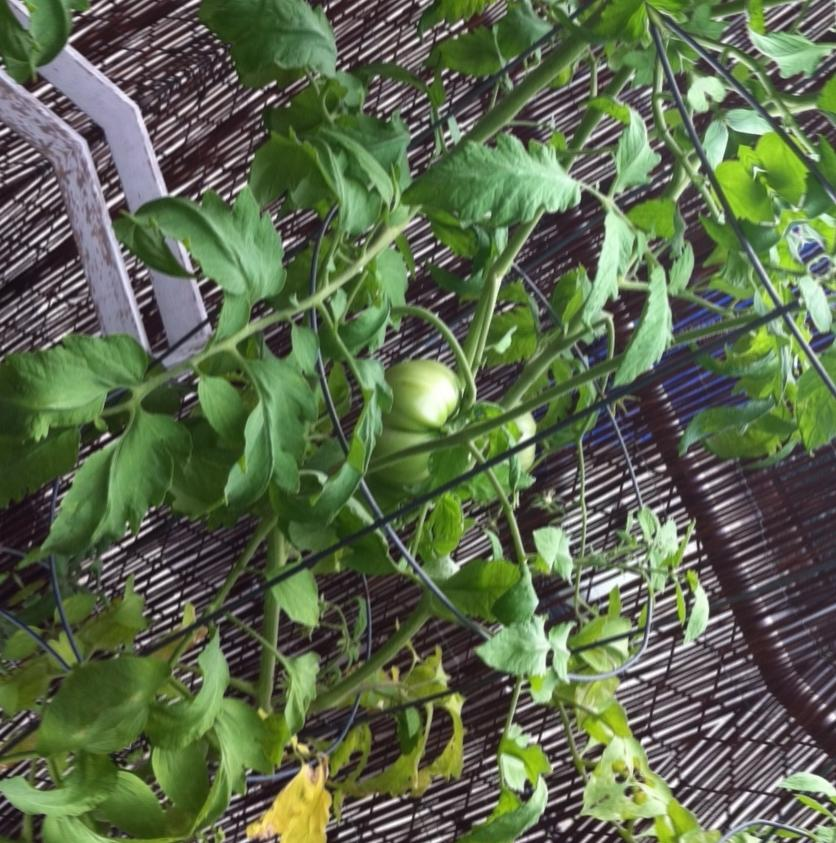Tomato leaf: (405, 90, 607, 286), (143, 161, 293, 325), (557, 244, 715, 397), (0, 324, 121, 475), (66, 414, 200, 547), (751, 321, 836, 477)
